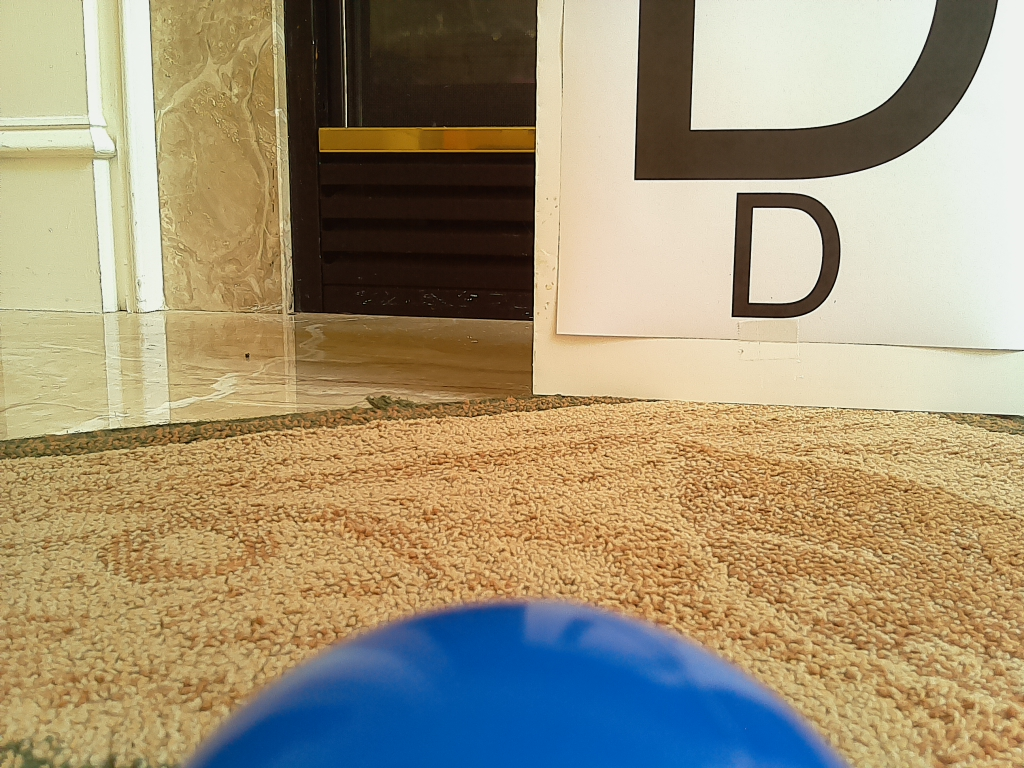letter: (736, 193, 841, 318)
